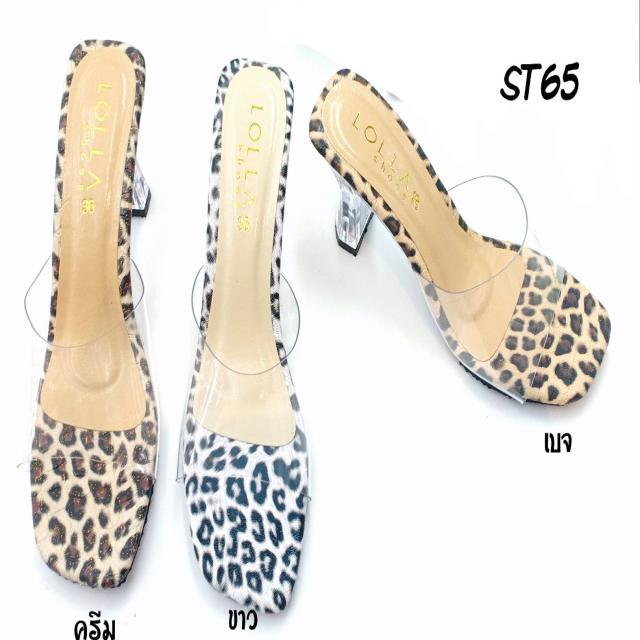bej: (310, 69, 610, 414)
cream: (36, 37, 156, 588)
white: (184, 58, 310, 616)
